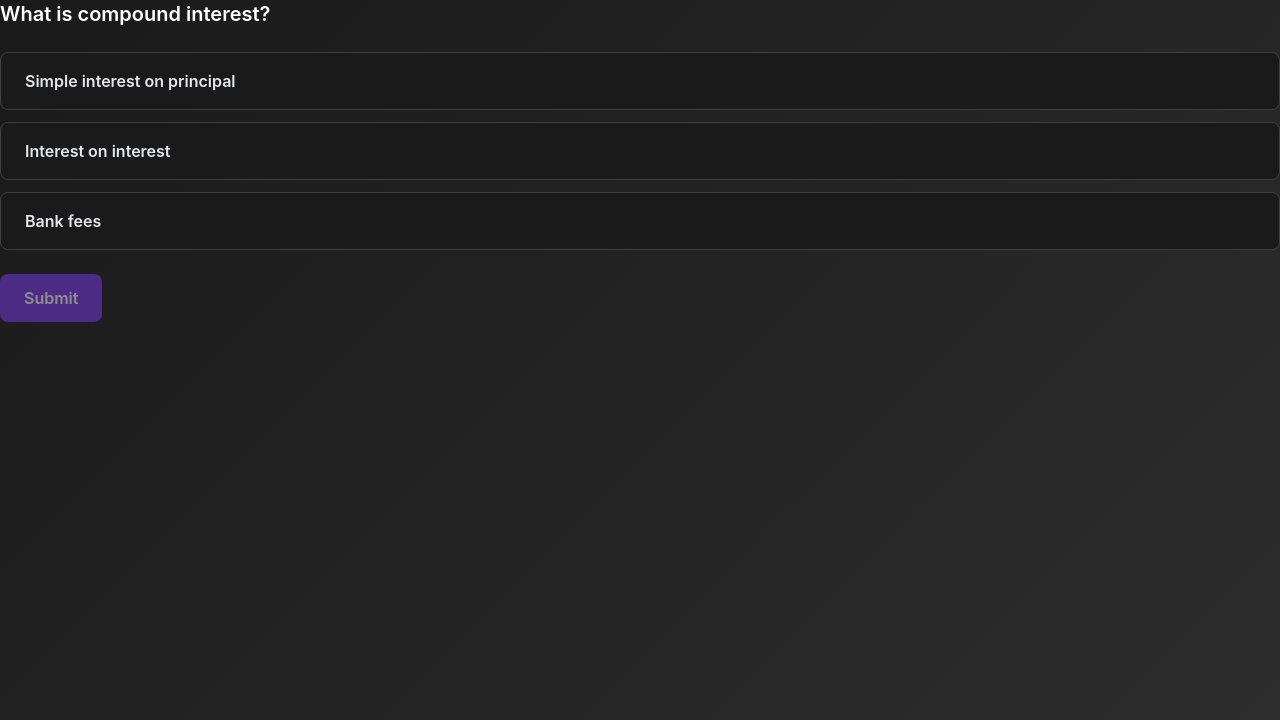
Test: Quiz Component › Submit with Correct Answer › should show correct feedback when submitting correct answer
The width and height of the screenshot is (1280, 720).
Click the button "Interest on interest": {"x": 98, "y": 151} [0,122,1279,180]
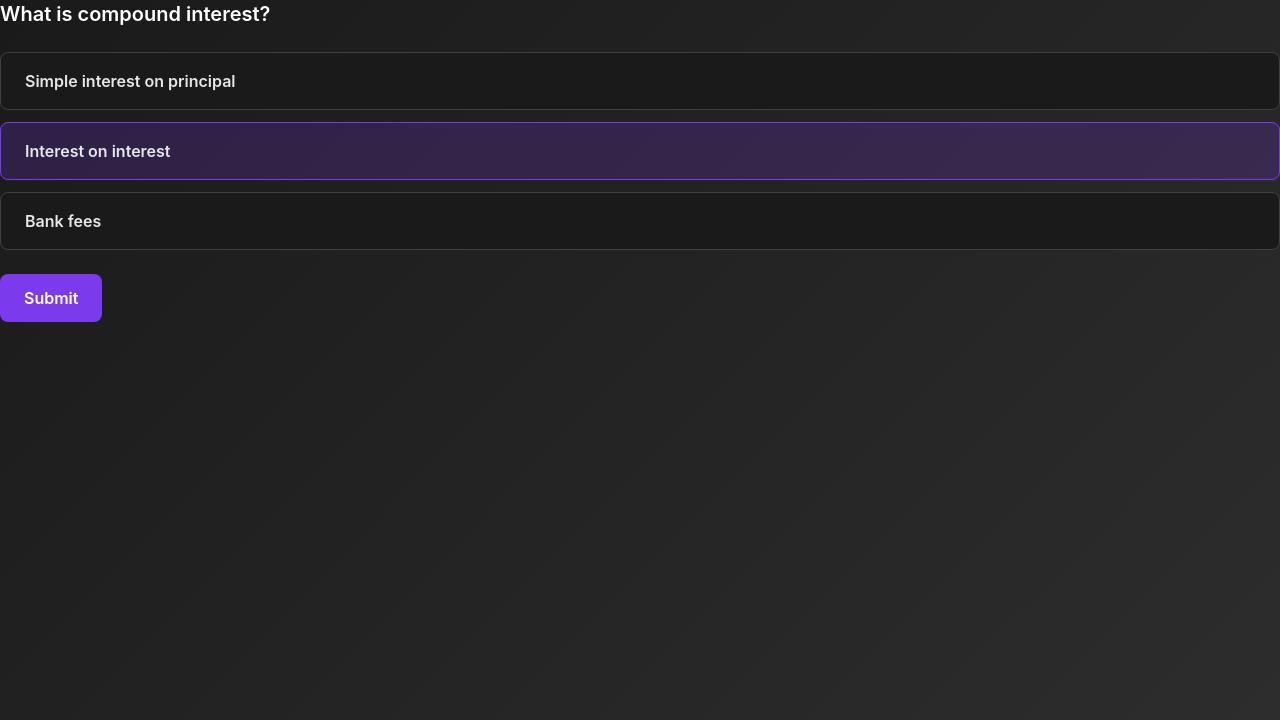
Click the button "Submit": {"x": 51, "y": 298} [0,274,102,322]
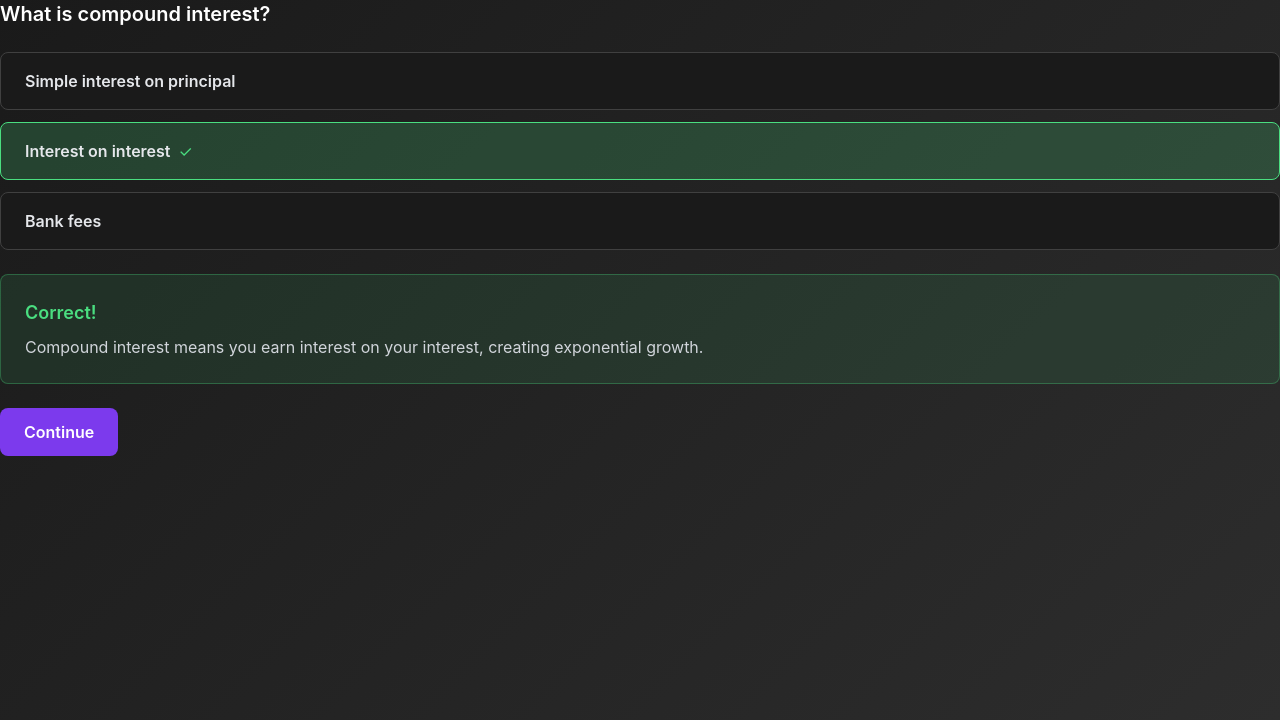
Expected: the heading "Correct!" is shown, [25,302,97,323]
Expected: the text "Compound interest means you earn interest on your interest" is shown, [25,337,703,357]
Expected: the button "Continue" is shown, [0,408,118,456]
